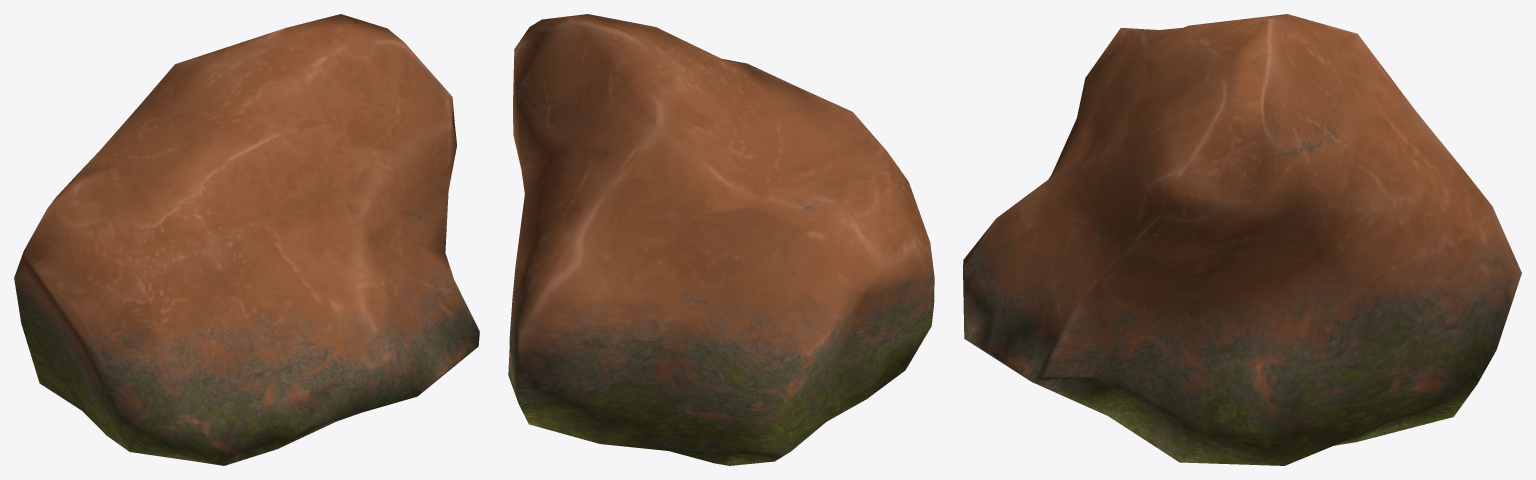
Rendered from ROK0110038.fbx.
3 views of the same model, side by side, from view 1: azimuth 30°, elevation 25°; view 2: azimuth 150°, elevation 25°; view 3: azimuth 270°, elevation 25° (orthographic). The views are drawn at different scales.
Visible parts, largest first — view 1: smROK0110038; view 2: smROK0110038; view 3: smROK0110038.
Part boxes in pixels (x1,y1,x2,y2): smROK0110038: (14, 14, 479, 465); smROK0110038: (508, 14, 934, 465); smROK0110038: (963, 14, 1521, 465).
Bounding box in the file's own units: 206 × 178 × 215.
Materials: 1 (1 with a texture image).
